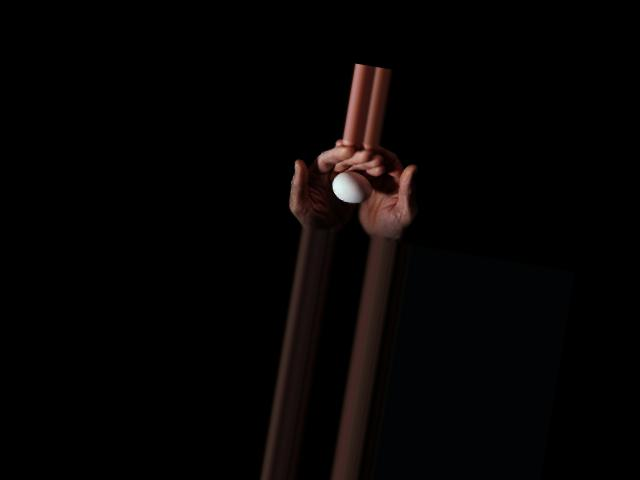egg: (329, 168, 374, 206)
